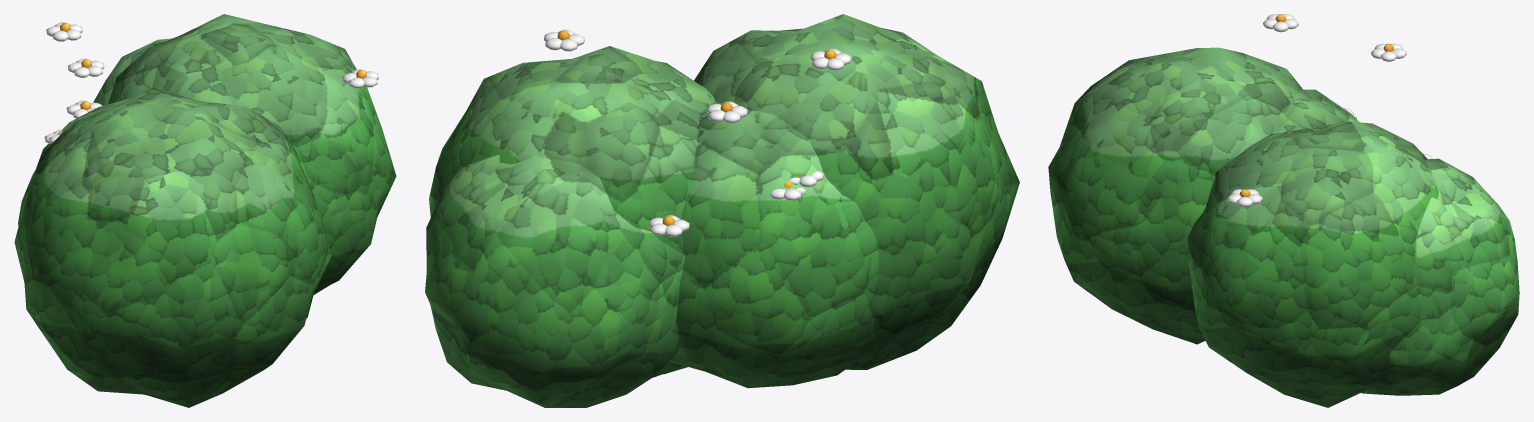
Rendered from bush_b.glb.
3 views of the same model, side by side, from view 1: azimuth 30°, elevation 25°; view 2: azimuth 150°, elevation 25°; view 3: azimuth 270°, elevation 25° (orthographic). The views are drawn at different scales.
Visible parts, largest first — view 1: Bush_leaf; view 2: Bush_leaf; view 3: Bush_leaf.
Boxes of the visible parts, x1,y1,x2,y2 form: Bush_leaf: [14, 14, 396, 407]; Bush_leaf: [425, 14, 1019, 407]; Bush_leaf: [1048, 14, 1519, 407].
Size of the model in its own units: 1.77 by 1.3 by 1.9.
1 material, 1 textured.
